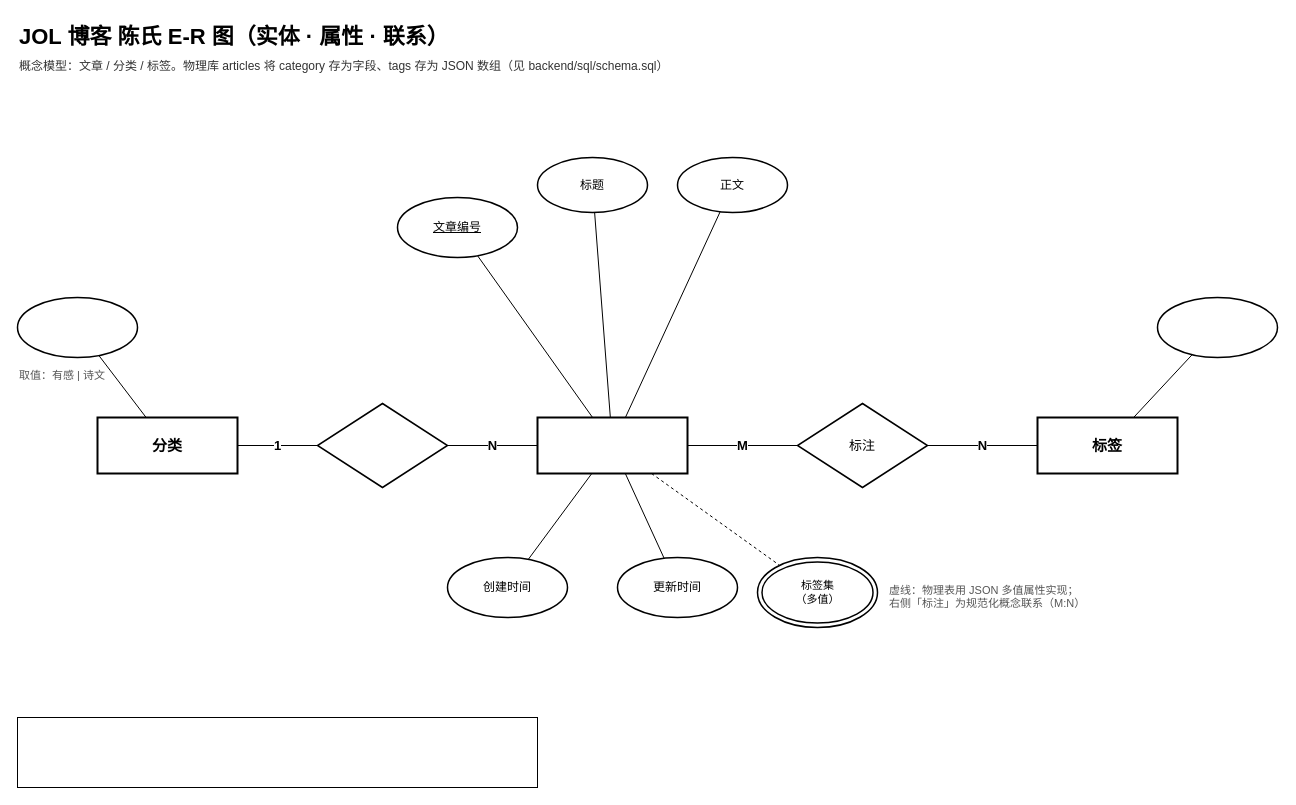
The diagram is 1296 pixels wide and 805 high, and some of its shapes have lost their labels. Here are the shapes that lost their labels. From the top down, the box of each, then its label:
(16, 296, 138, 358): 分类名
(1156, 296, 1278, 358): 标签名
(316, 402, 448, 488): 归属
(536, 416, 688, 474): 文章
(16, 716, 538, 788): 图例 □ 实体 ◇ 联系 ○ 属性 下划线 主键 ◎ 多值属性 边标注 1 / N / M 基数
